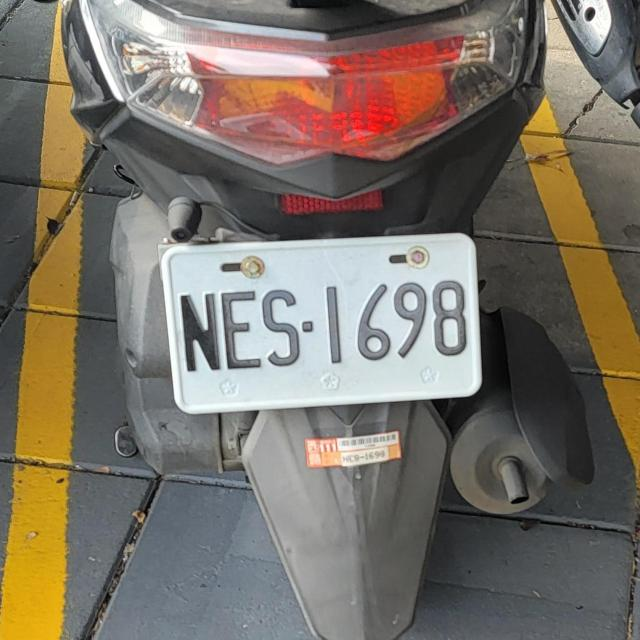W: (158, 221, 490, 416)
